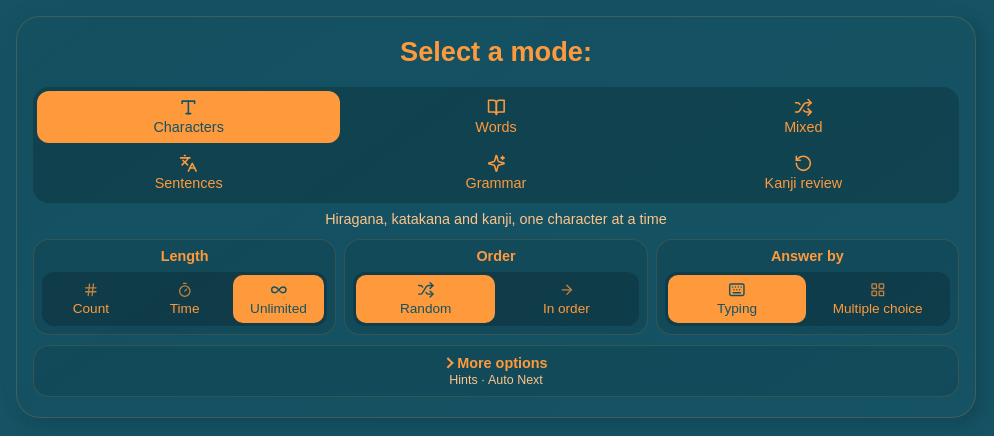
Scenario: character order › is offered for characters practice only, random by default
Click the radio button labelled "In order".
click(566, 299)  # box [497,275,636,323]
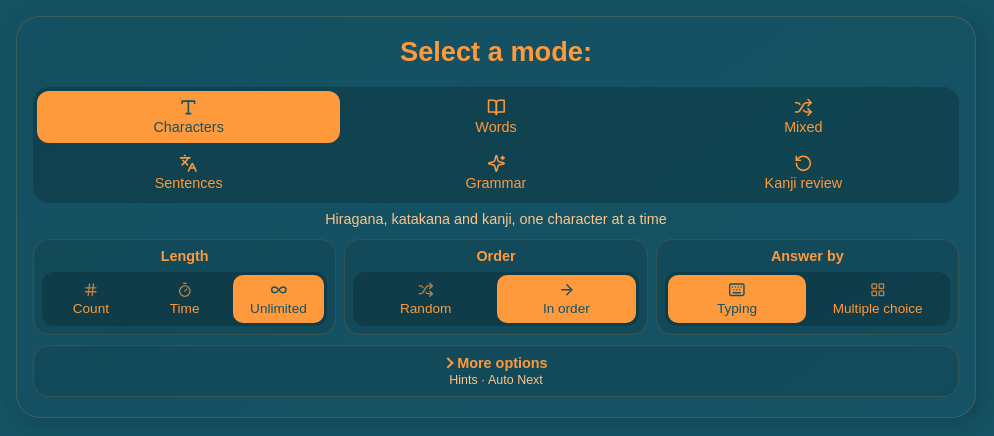
Click the tab "Words".
click(496, 117)  # box [344,91,648,143]
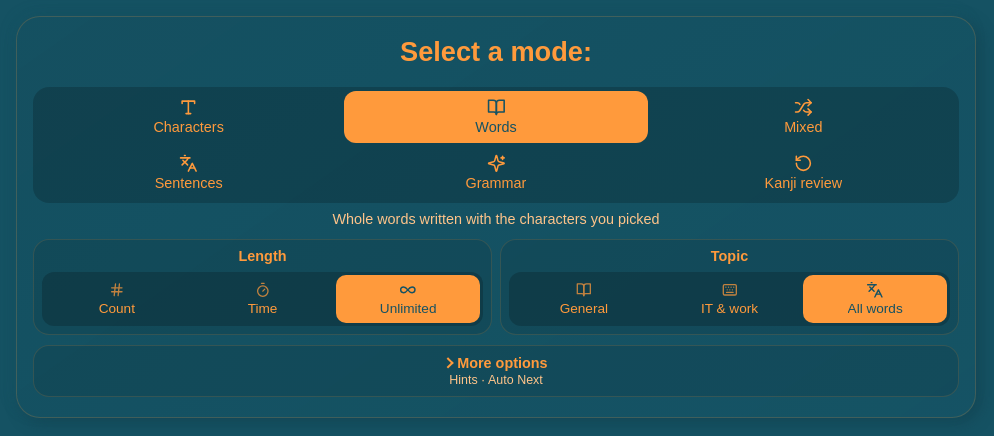
Now the text "Order" is gone
